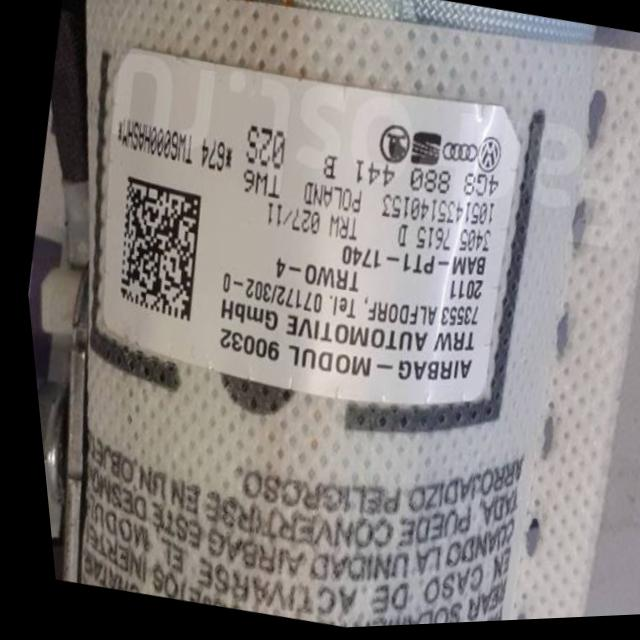datamatrix: (95, 174, 211, 326)
